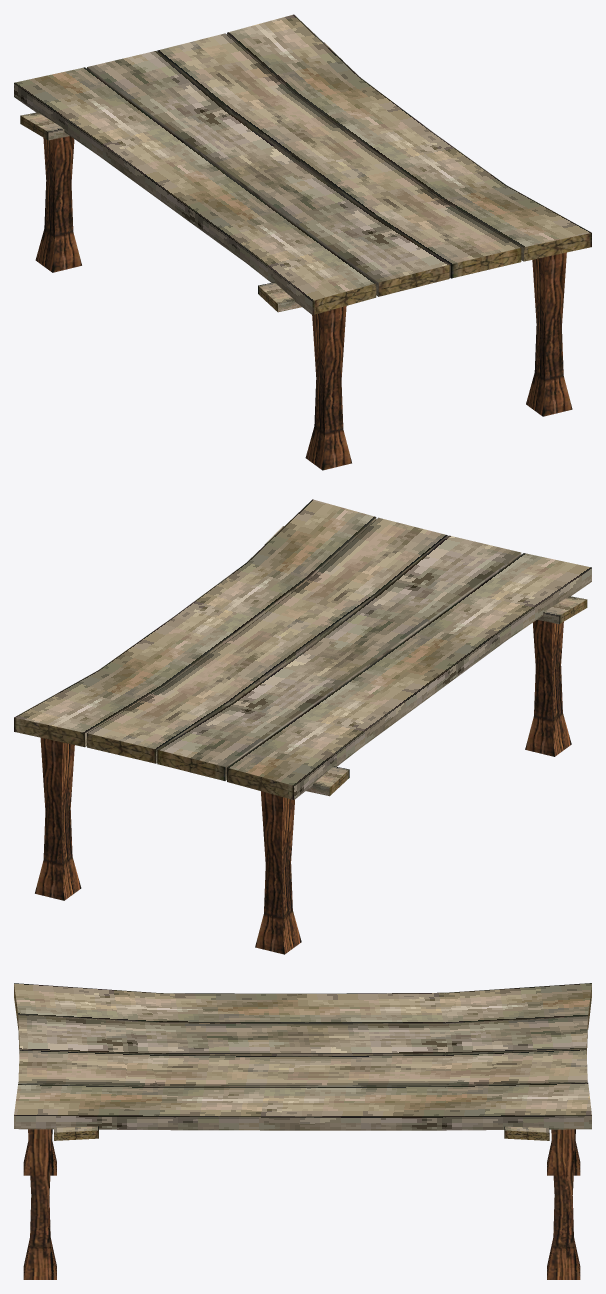
The model's file is LVL_RIV_INST_TABLE.fbx.
3 renders of one model, top to bottom at view 1: azimuth 30°, elevation 25°; view 2: azimuth 150°, elevation 25°; view 3: azimuth 270°, elevation 25°, orthographic. The views are drawn at different scales.
Visible parts, largest first — view 1: LVL_RIV_INST_TABLE; view 2: LVL_RIV_INST_TABLE; view 3: LVL_RIV_INST_TABLE.
Boxes of the visible parts, <box> form: LVL_RIV_INST_TABLE: <box>14,14,591,470</box>; LVL_RIV_INST_TABLE: <box>14,499,591,954</box>; LVL_RIV_INST_TABLE: <box>14,983,591,1279</box>.
Size of the model in its own units: 17937 by 10008 by 30569.
3 materials, 3 textured.
